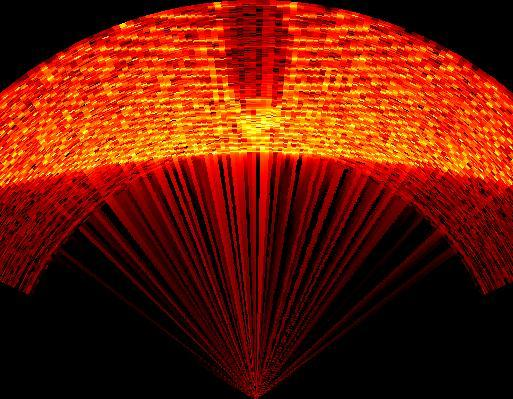box_crate: (220, 1, 296, 101)
